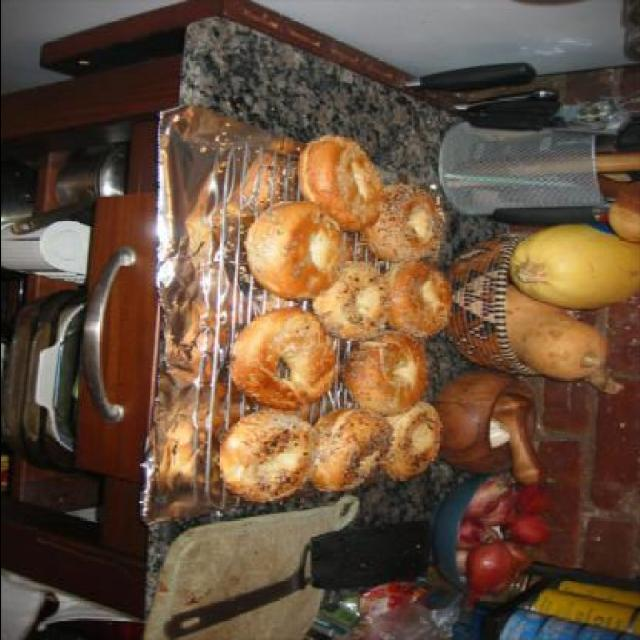Bagel: (230, 309, 341, 413), (244, 200, 350, 302), (218, 408, 318, 499), (300, 132, 384, 234), (339, 332, 435, 416), (308, 407, 388, 490), (364, 180, 442, 264), (311, 260, 391, 338), (381, 258, 452, 336), (378, 401, 446, 479)
